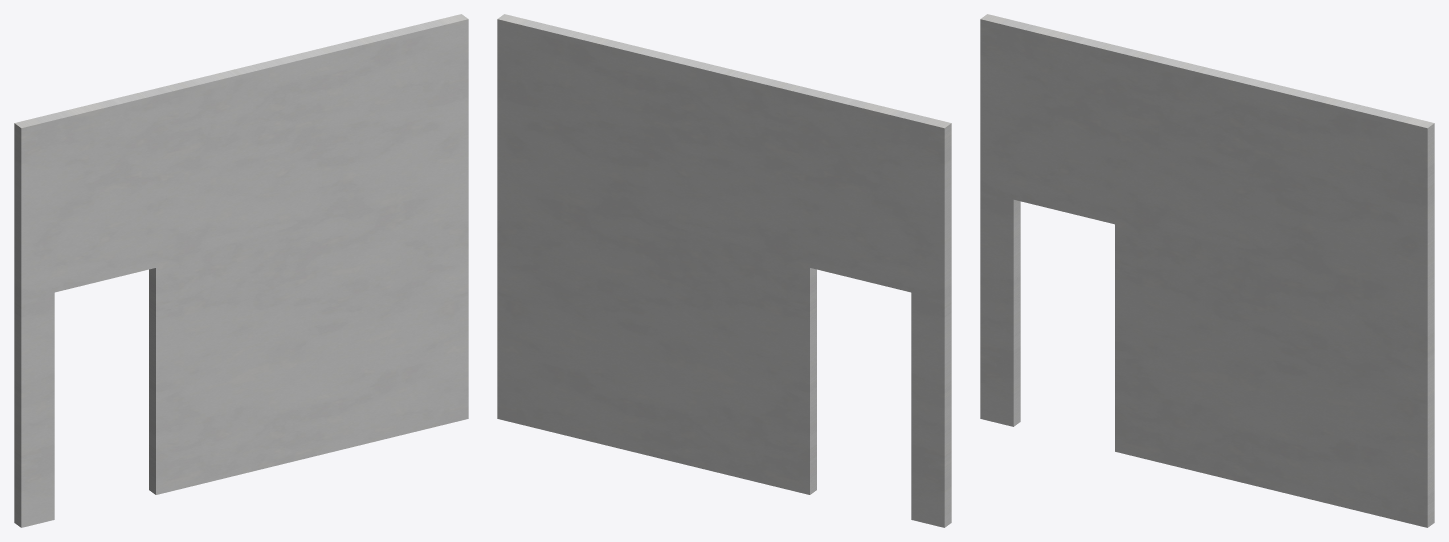
File: Floor2_WallRoom1.fbx
3 views of the same model, side by side, from view 1: azimuth 30°, elevation 25°; view 2: azimuth 150°, elevation 25°; view 3: azimuth 330°, elevation 25° (orthographic).
Visible parts, largest first — view 1: Floor2_WallRoom1; view 2: Floor2_WallRoom1; view 3: Floor2_WallRoom1.
Part boxes in pixels (x1,y1,x2,y2): Floor2_WallRoom1: (14, 14, 468, 527); Floor2_WallRoom1: (497, 14, 951, 527); Floor2_WallRoom1: (980, 14, 1434, 527).
Bounding box in the file's own units: 455 × 388 × 12.4.
Materials: 1 (1 with a texture image).
